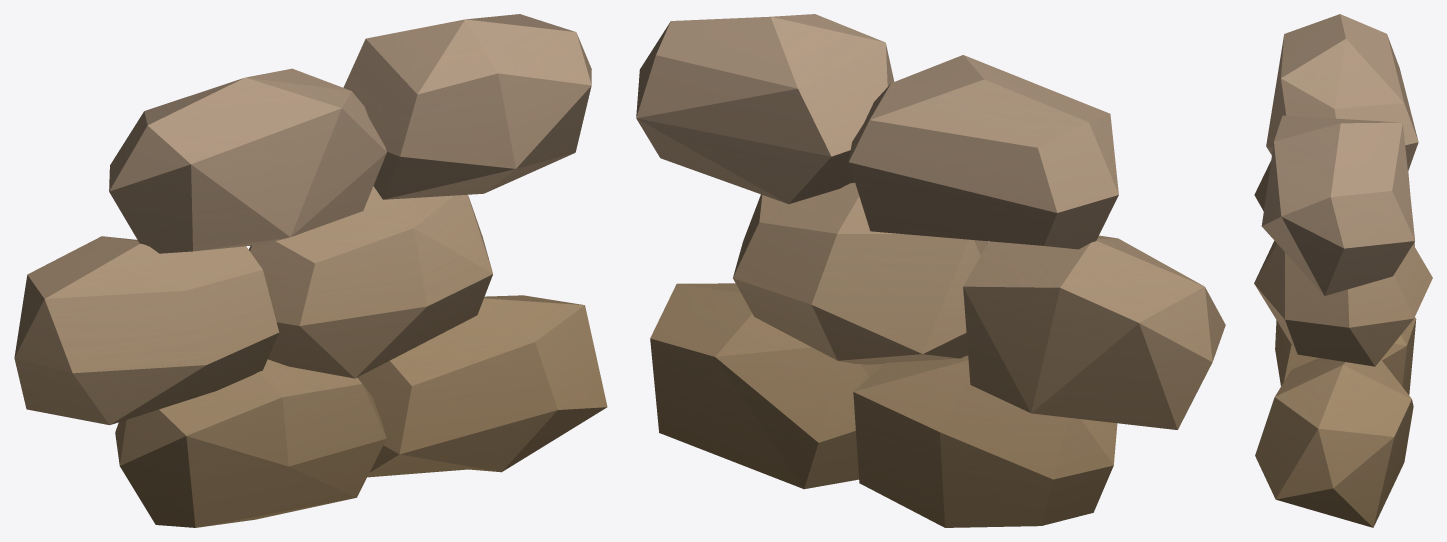
File: SobbleStoneWall_01.fbx
The picture shows the model from 3 angles, left to right: view 1: azimuth 30°, elevation 25°; view 2: azimuth 150°, elevation 25°; view 3: azimuth 270°, elevation 25°; orthographic projection. The views are drawn at different scales.
Visible parts, largest first — view 1: SobbleStoneWall_01; view 2: SobbleStoneWall_01; view 3: SobbleStoneWall_01.
Boxes of the visible parts, x1,y1,x2,y2 form: SobbleStoneWall_01: (14,14,607,527); SobbleStoneWall_01: (636,14,1225,527); SobbleStoneWall_01: (1254,14,1432,527).
Size of the model in its own units: 186 by 140 by 58.08.
